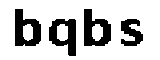b: (81, 5, 112, 52), (11, 7, 44, 48)
q: (45, 14, 77, 60)
s: (118, 17, 145, 50)
